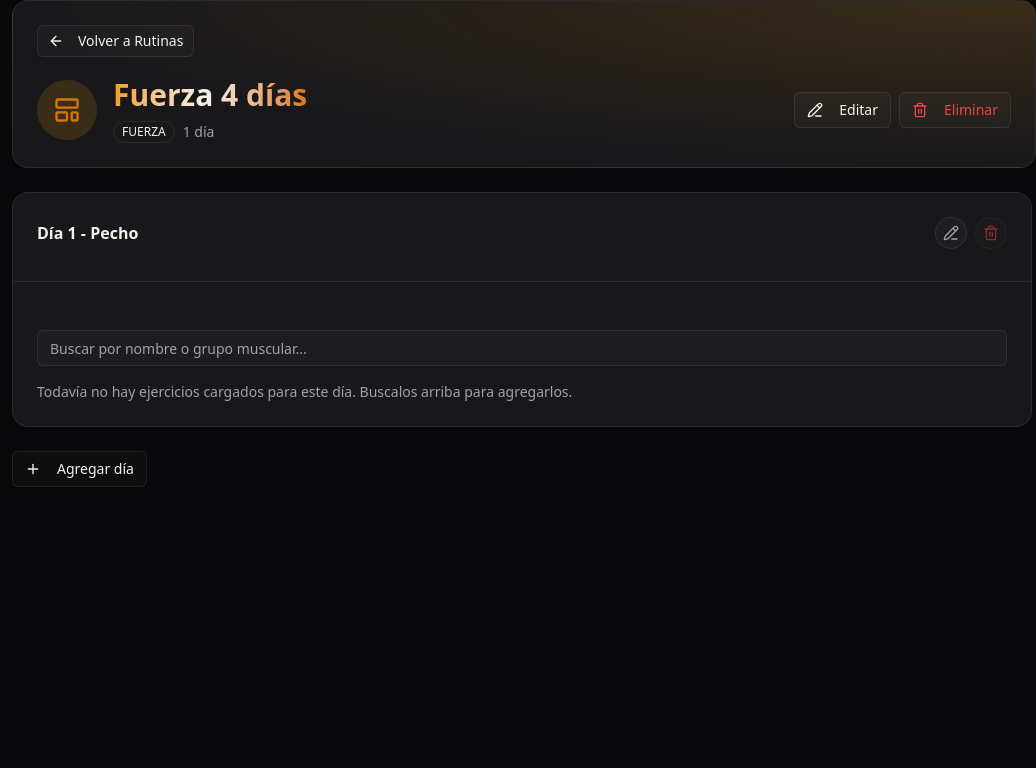
detalle de plantilla de rutina — borrador y guardado › muestra 3x10 y 0 kg en un ejercicio recién agregado al día
This screenshot has width=1036, height=768.
Expected: the text "Día 1 - Pecho" is shown, [37,225,138,241]
Type "sent" into the field named "Buscar ejercicio para el Día 1" at (522, 348), box [37,330,1007,366]
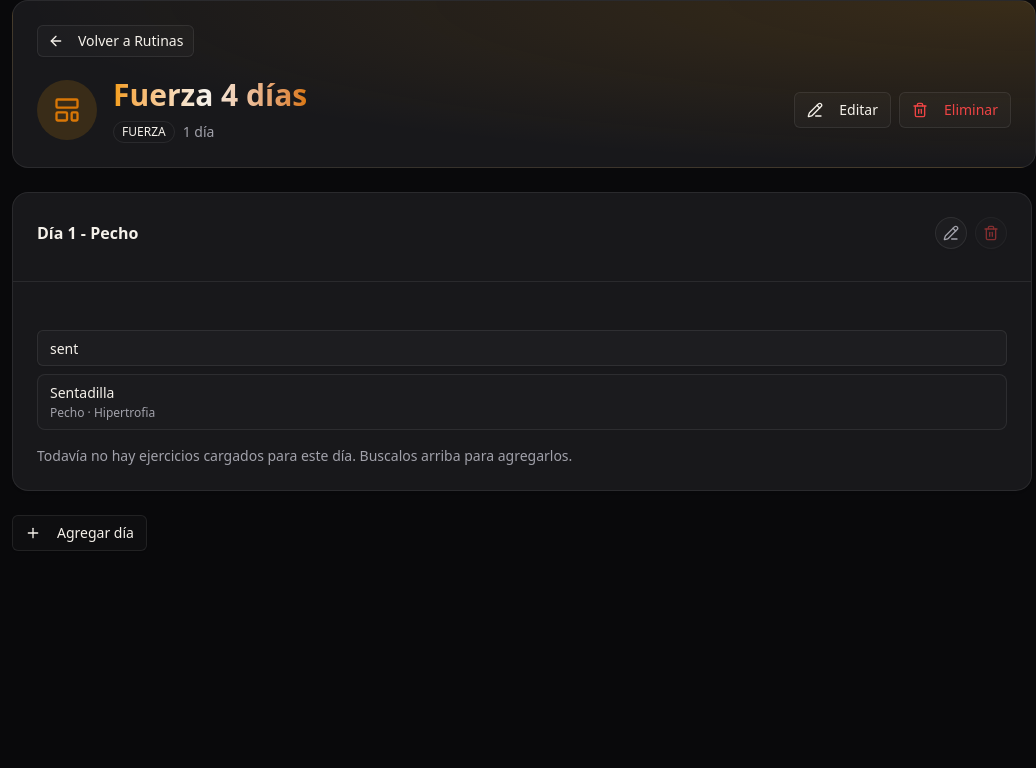
Click the text "Sentadilla" at (82, 393), box [50,383,114,403]
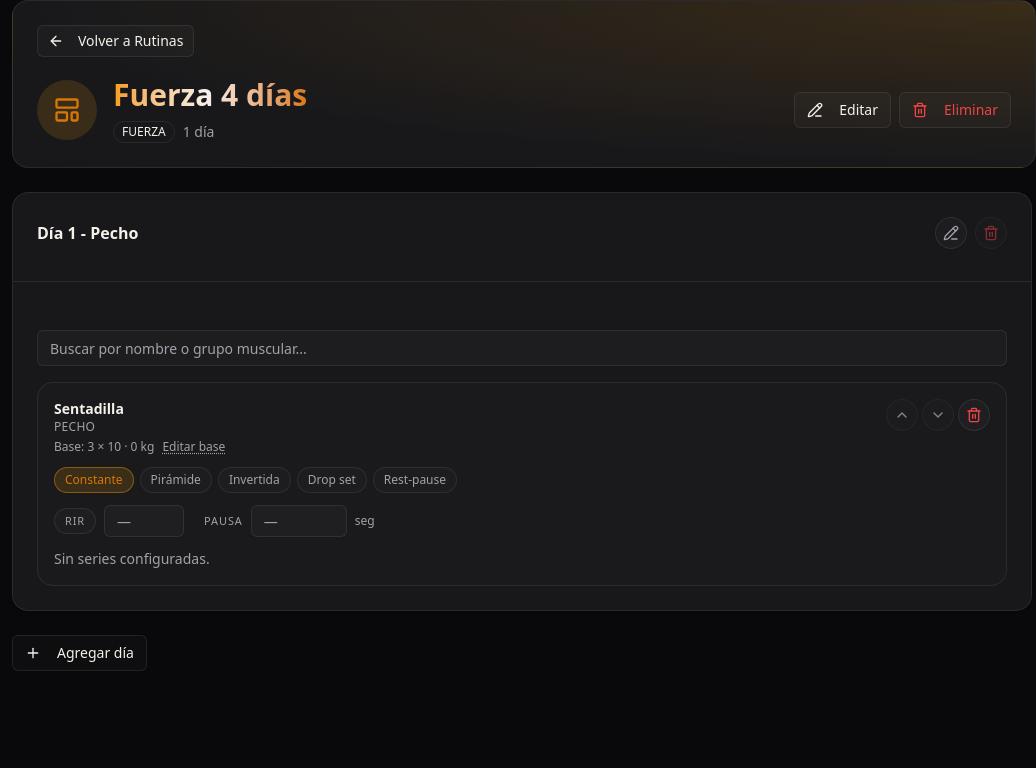
Expected: the text "Base: 3 × 10 · 0 kg Editar base" is shown, [54,439,225,455]
